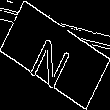N_NE: (30, 23, 80, 87)
